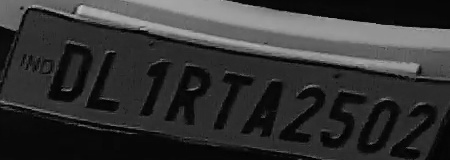0: (356, 96, 399, 151)
1: (134, 51, 168, 121)
2: (388, 101, 444, 157), (283, 83, 324, 143)
5: (322, 87, 359, 152)
A: (247, 78, 281, 140)
D: (50, 37, 91, 105)
L: (90, 46, 124, 117)
R: (167, 58, 212, 133)
T: (215, 65, 247, 133)
